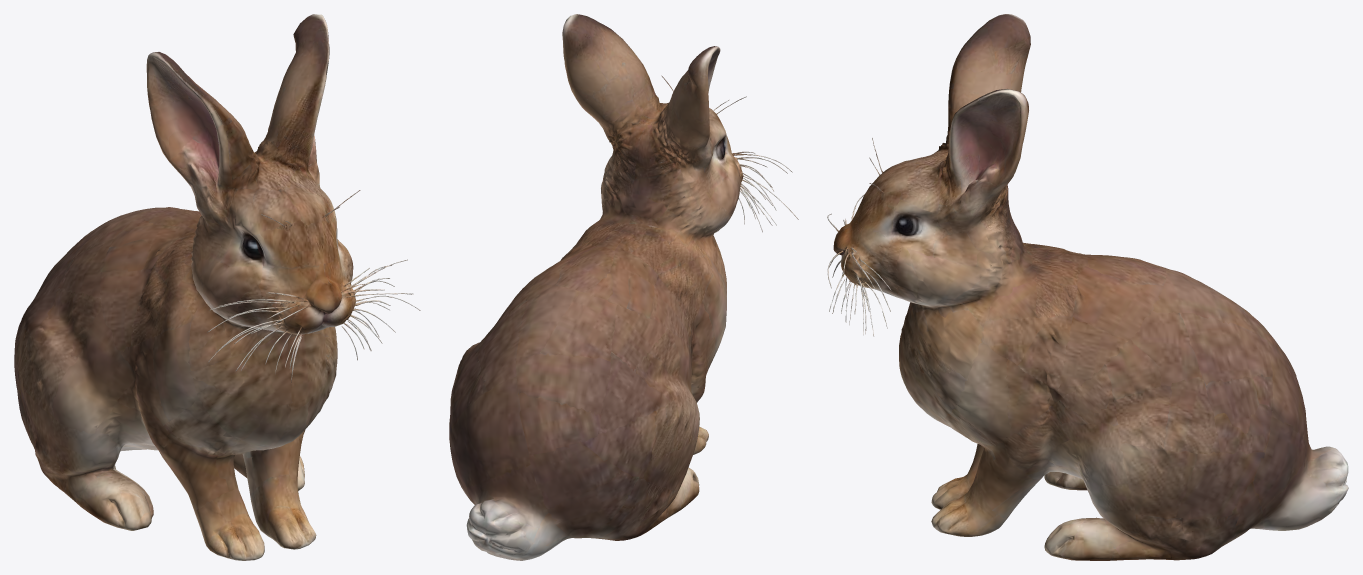
The picture shows the model from 3 angles, left to right: view 1: azimuth 30°, elevation 25°; view 2: azimuth 150°, elevation 25°; view 3: azimuth 270°, elevation 25°; orthographic projection. The views are drawn at different scales.
Bounding box in the file's own units: 0.9988 × 1.89 × 1.9.
1 material, 1 textured.
